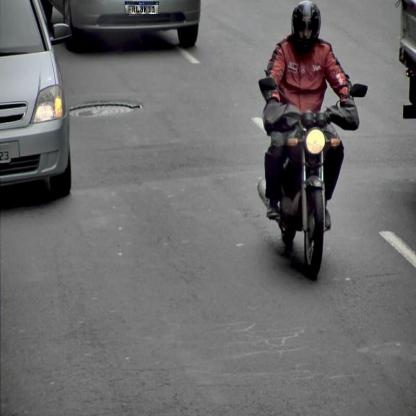PlacaM: (125, 2, 159, 14)
